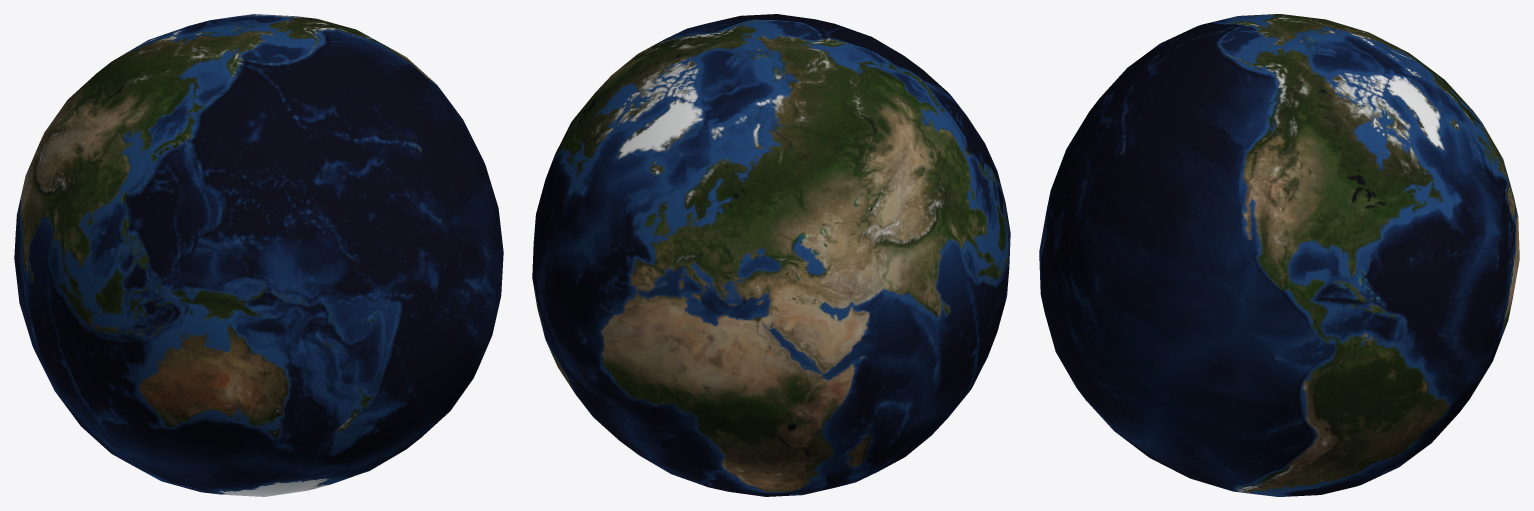
Rendered from Earth.fbx.
The picture shows the model from 3 angles, left to right: view 1: azimuth 30°, elevation 25°; view 2: azimuth 150°, elevation 25°; view 3: azimuth 270°, elevation 25°; orthographic projection. The views are drawn at different scales.
Parts seen in each view (by area): view 1: Earth; view 2: Earth; view 3: Earth.
Boxes of the visible parts, x1,y1,x2,y2 form: Earth: [14, 14, 503, 496]; Earth: [532, 14, 1010, 496]; Earth: [1039, 14, 1519, 496].
Size of the model in its own units: 600 by 607 by 607.
